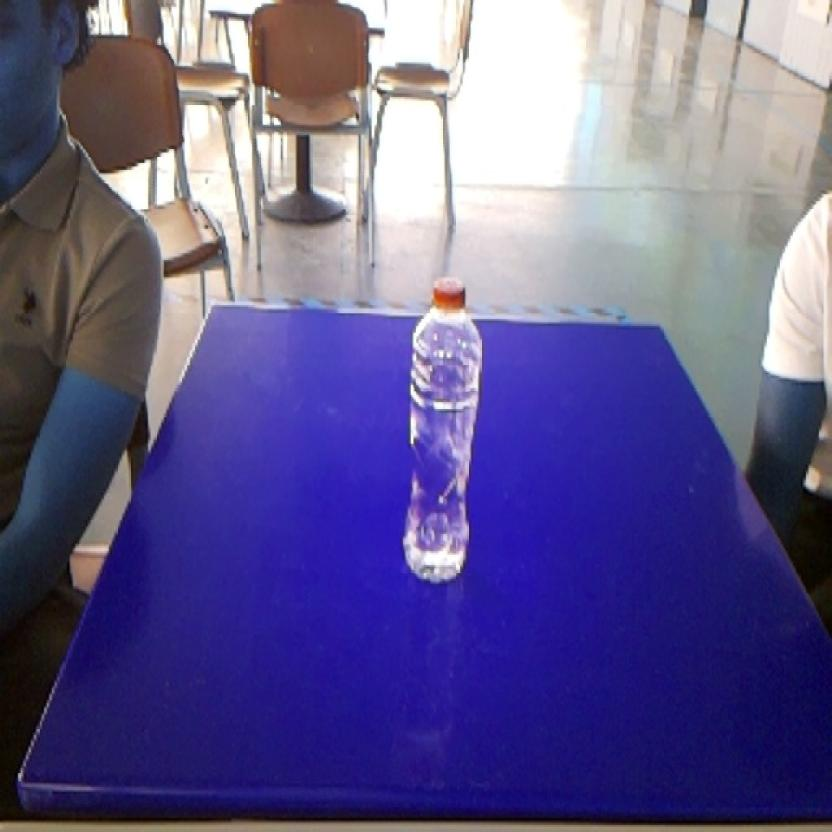no_label: (395, 266, 488, 587)
